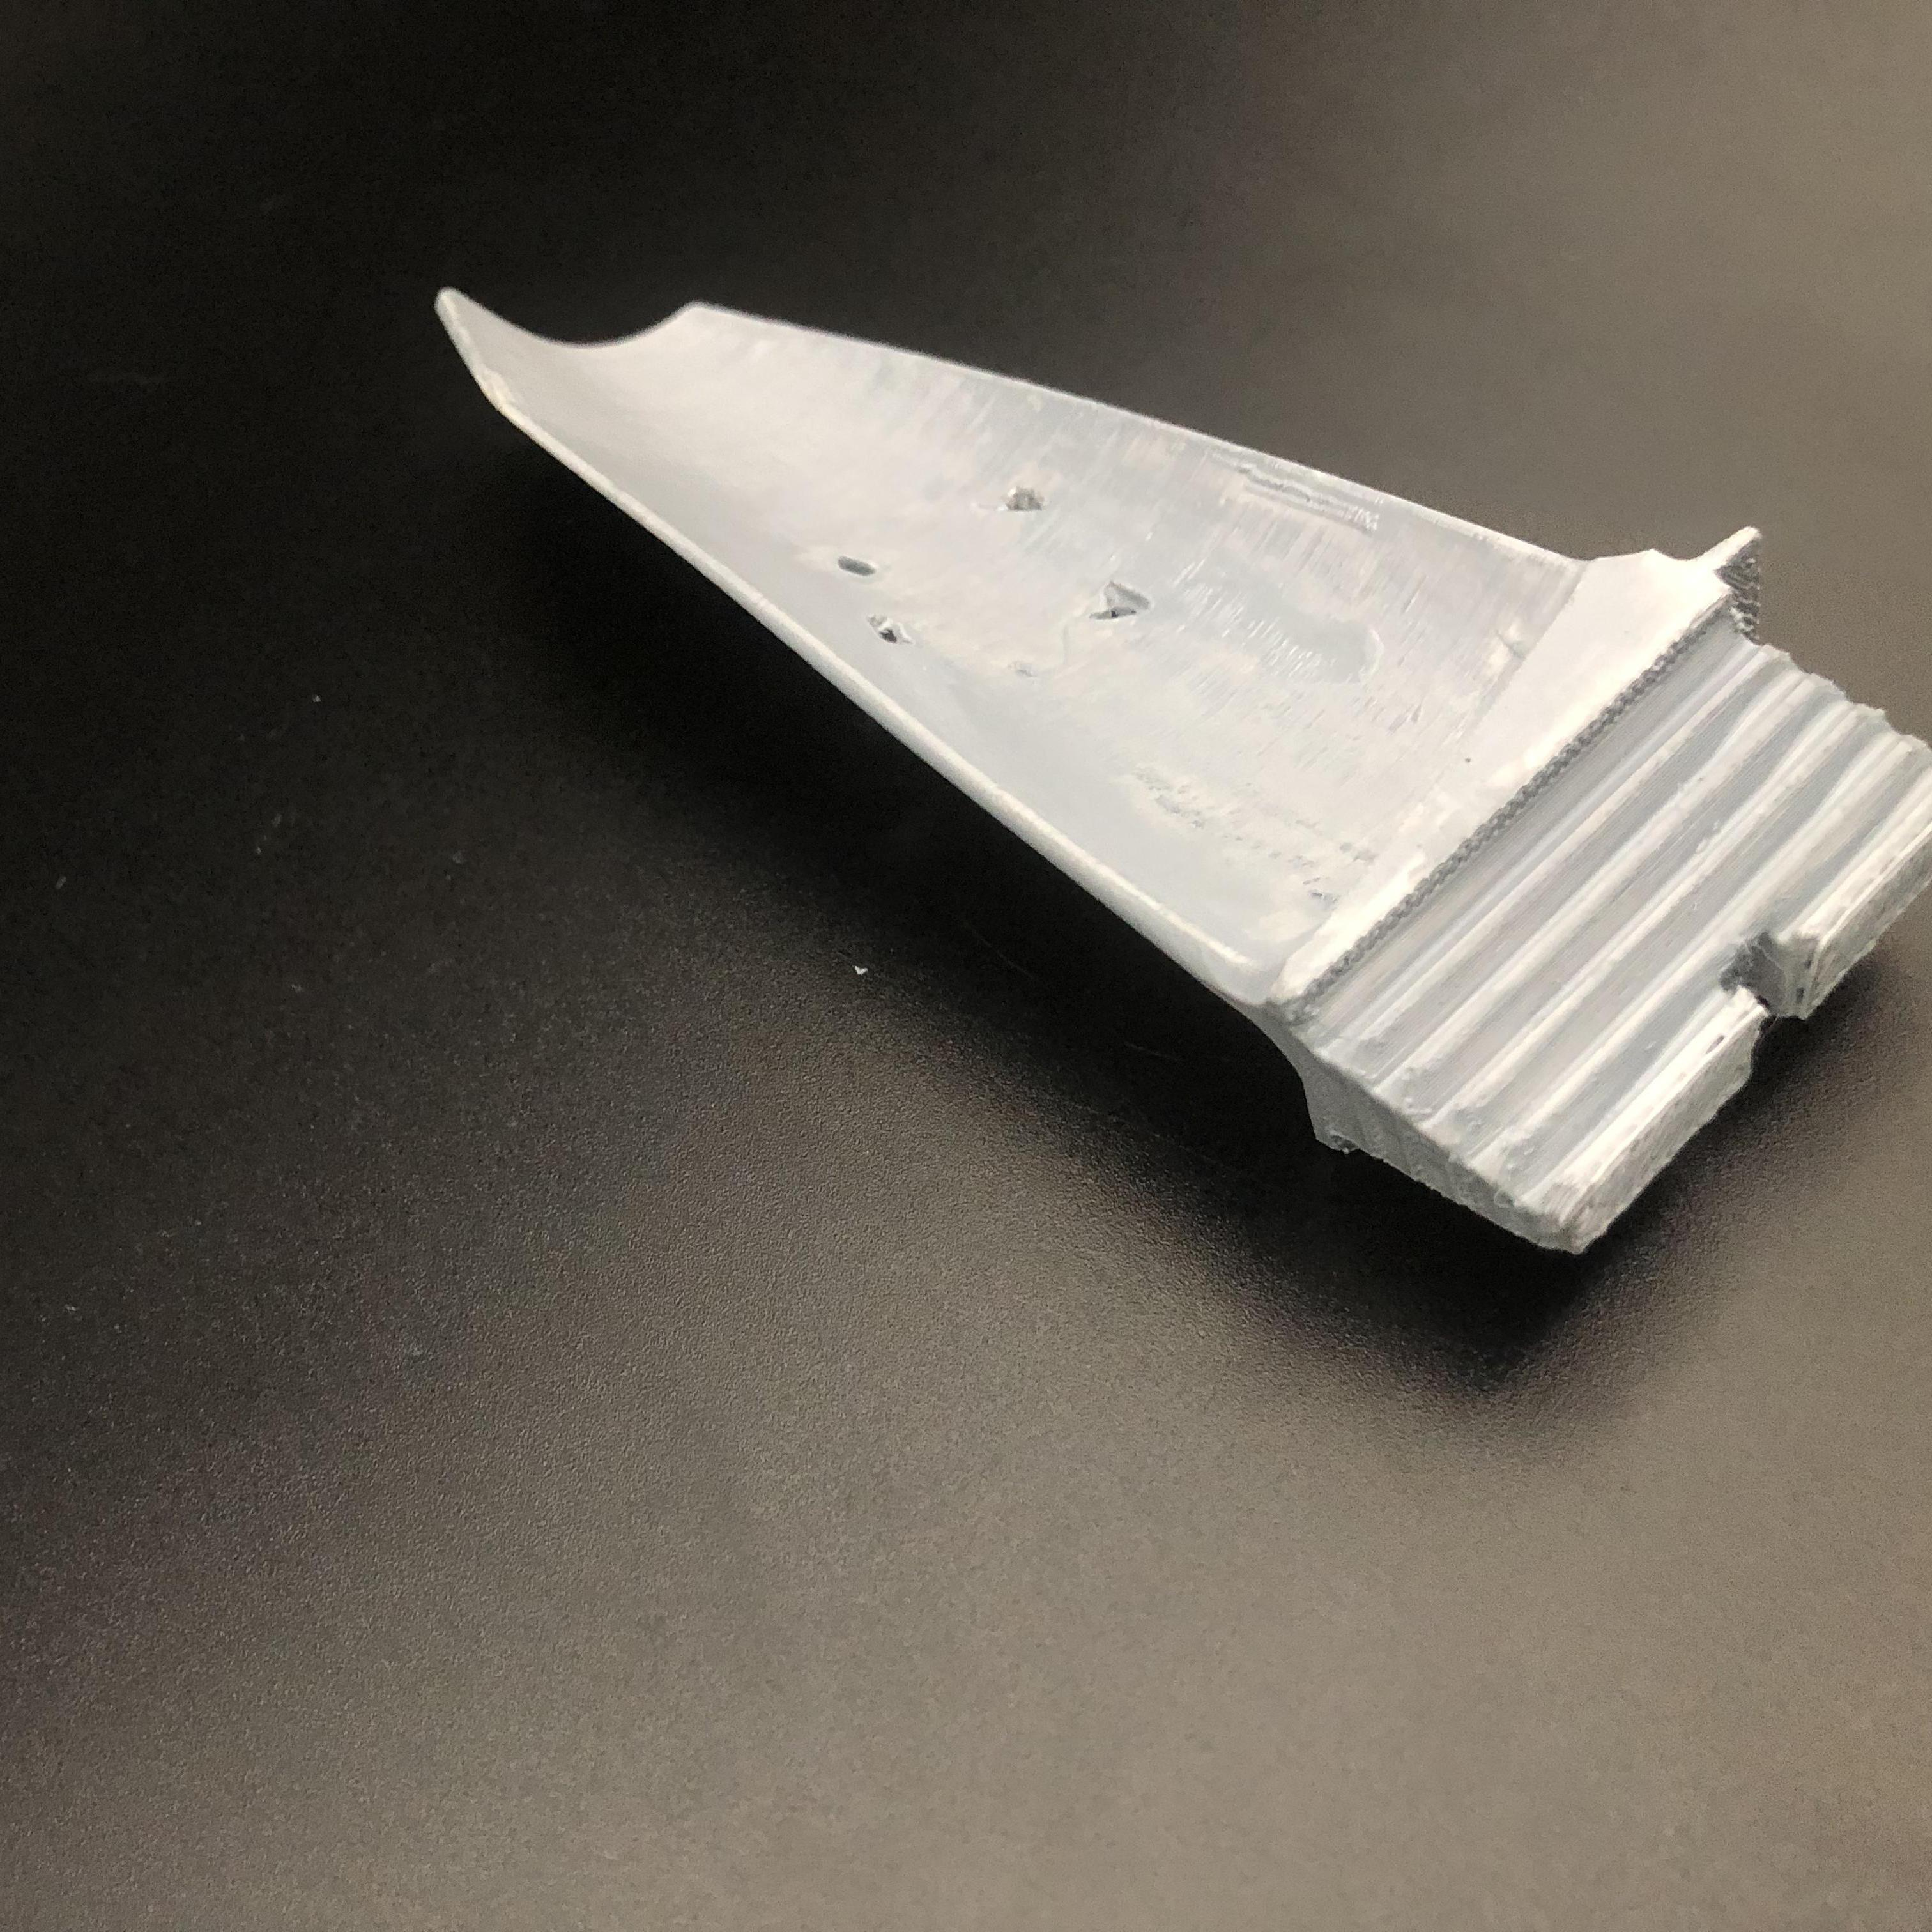breakdown: (856, 488, 1148, 665)
